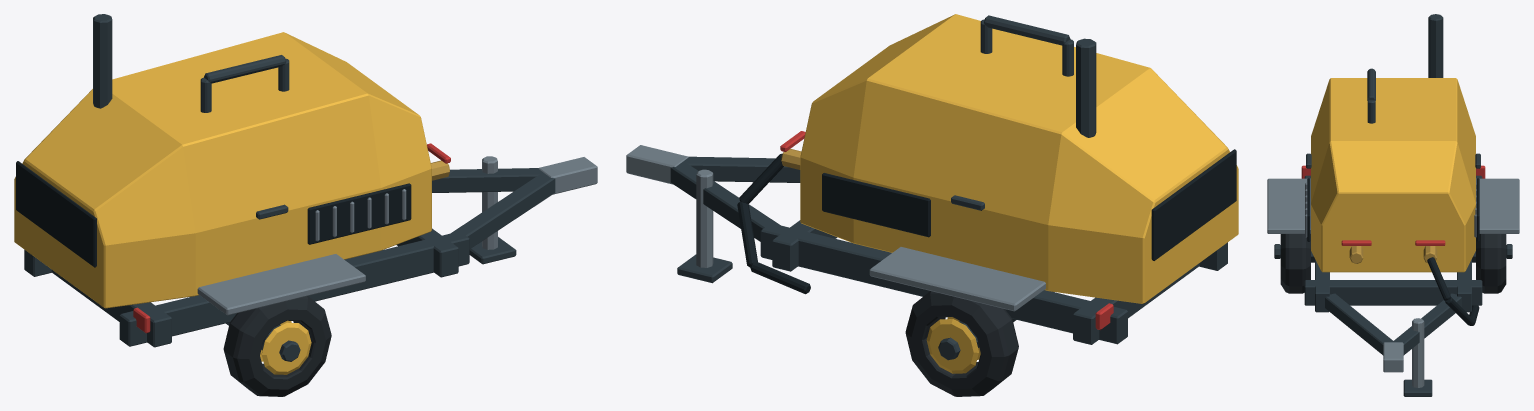
The model's file is b07_diesel_air_compressor_trailer.glb.
The picture shows the model from 3 angles, left to right: view 1: azimuth 30°, elevation 25°; view 2: azimuth 150°, elevation 25°; view 3: azimuth 270°, elevation 25°; orthographic projection. The views are drawn at different scales.
Visible parts, largest first — view 1: b07_diesel_air_compressor_trailer; view 2: b07_diesel_air_compressor_trailer; view 3: b07_diesel_air_compressor_trailer.
Boxes of the visible parts, x1,y1,x2,y2 form: b07_diesel_air_compressor_trailer: [14, 14, 597, 396]; b07_diesel_air_compressor_trailer: [626, 14, 1238, 396]; b07_diesel_air_compressor_trailer: [1267, 14, 1519, 396].
Size of the model in its own units: 3.38 by 1.97 by 1.85.
